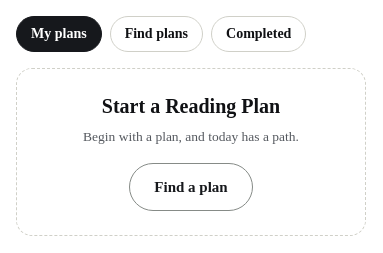
Find plans › says "1 day" for a one-day plan
Click the button with test id "plans-chip-find".
click(156, 34)  # box [110,16,203,52]
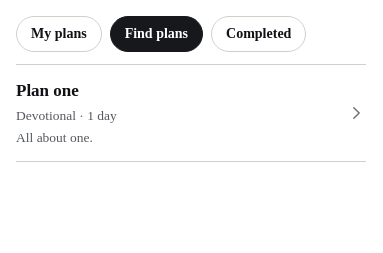
expect the button with test id "plan-one" reads "Plan one Devotional · 1 day All about one.": met, box [16,65,366,162]
